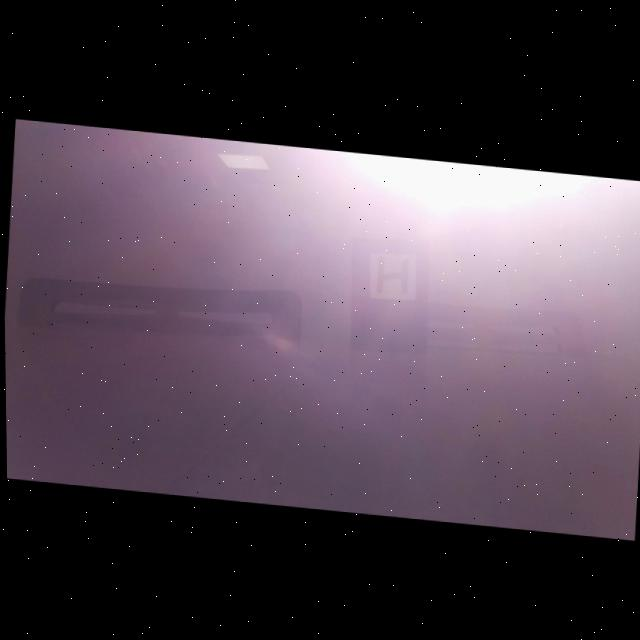H: (375, 255, 408, 291)
